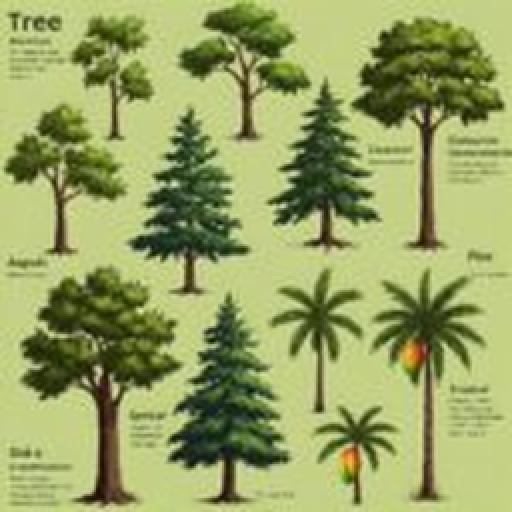trees: (18, 264, 184, 508), (352, 14, 506, 252), (368, 260, 488, 504), (164, 278, 292, 504), (128, 102, 252, 296), (266, 76, 384, 250), (2, 100, 128, 258), (176, 0, 312, 142), (266, 264, 368, 416), (70, 12, 156, 140), (310, 402, 404, 508)
